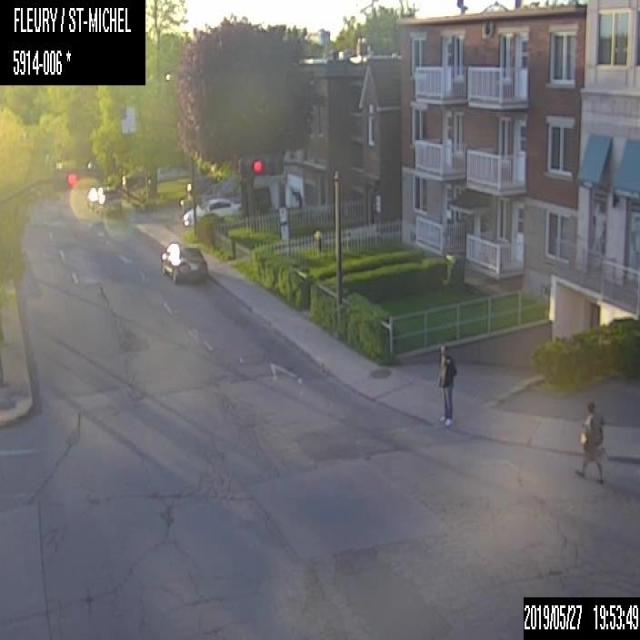pedestrian: (576, 398, 604, 486), (436, 340, 454, 425)
vehicle: (158, 240, 209, 287), (178, 196, 242, 228), (85, 184, 122, 219)
